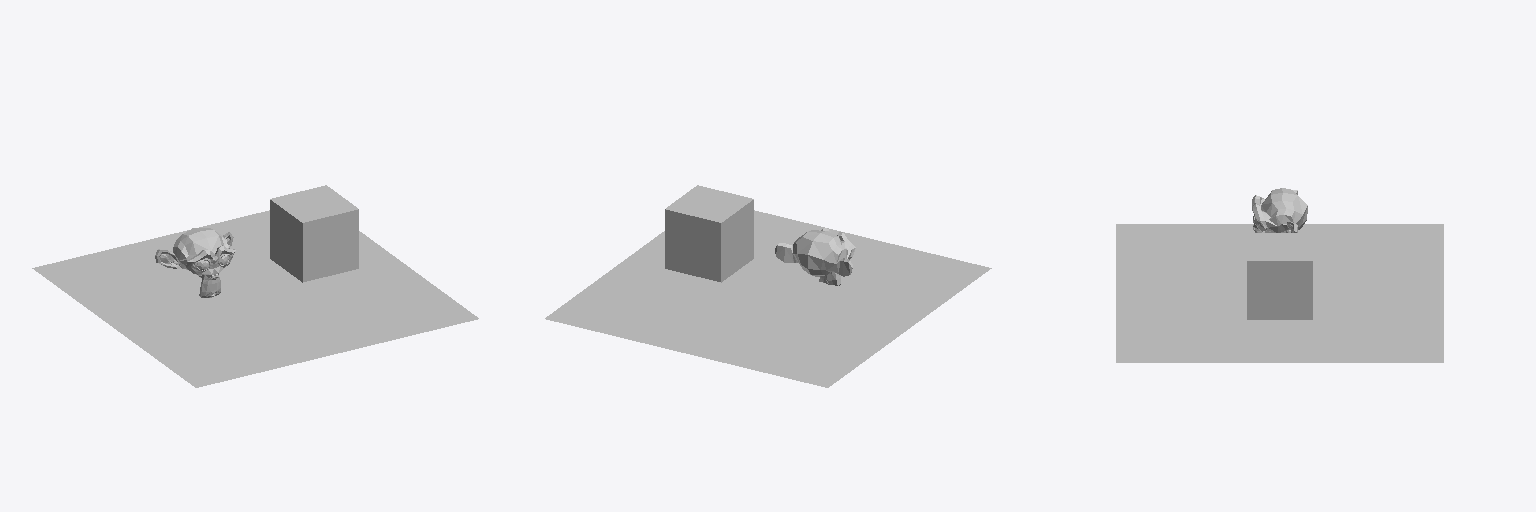
The picture shows the model from 3 angles: view 1: azimuth 30°, elevation 25°; view 2: azimuth 150°, elevation 25°; view 3: azimuth 270°, elevation 25°; orthographic projection.
Parts seen in each view (by area): view 1: Plane, Cube, Suzanne; view 2: Plane, Cube, Suzanne; view 3: Plane, Cube, Suzanne.
Boxes of the visible parts, x1,y1,x2,y2 form: Plane: [32, 210, 478, 387]; Cube: [270, 185, 358, 282]; Suzanne: [155, 228, 235, 297]; Plane: [545, 210, 991, 387]; Cube: [665, 185, 753, 282]; Suzanne: [775, 228, 855, 285]; Plane: [1116, 224, 1443, 362]; Cube: [1247, 233, 1312, 319]; Suzanne: [1252, 188, 1307, 232].
Size of the model in its own units: 9.98 by 2.53 by 9.98.